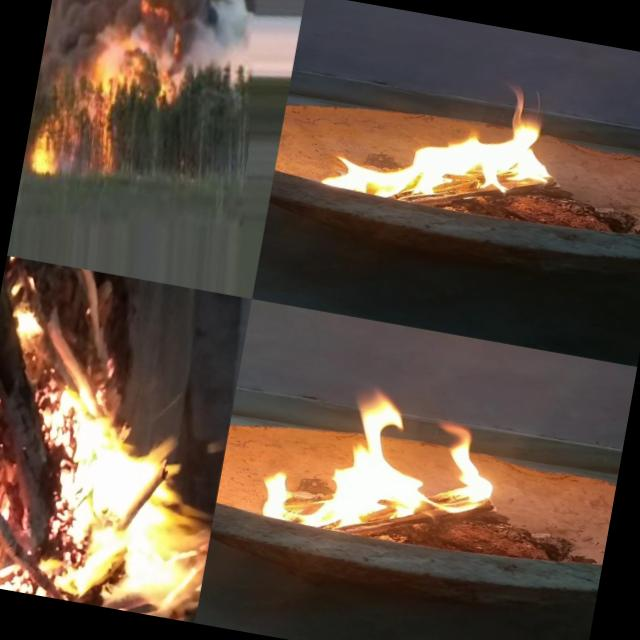fire: (256, 370, 508, 556), (322, 78, 578, 236), (46, 449, 220, 623), (77, 52, 147, 180), (22, 124, 62, 182)
smoke: (44, 0, 242, 73), (37, 41, 100, 91)
